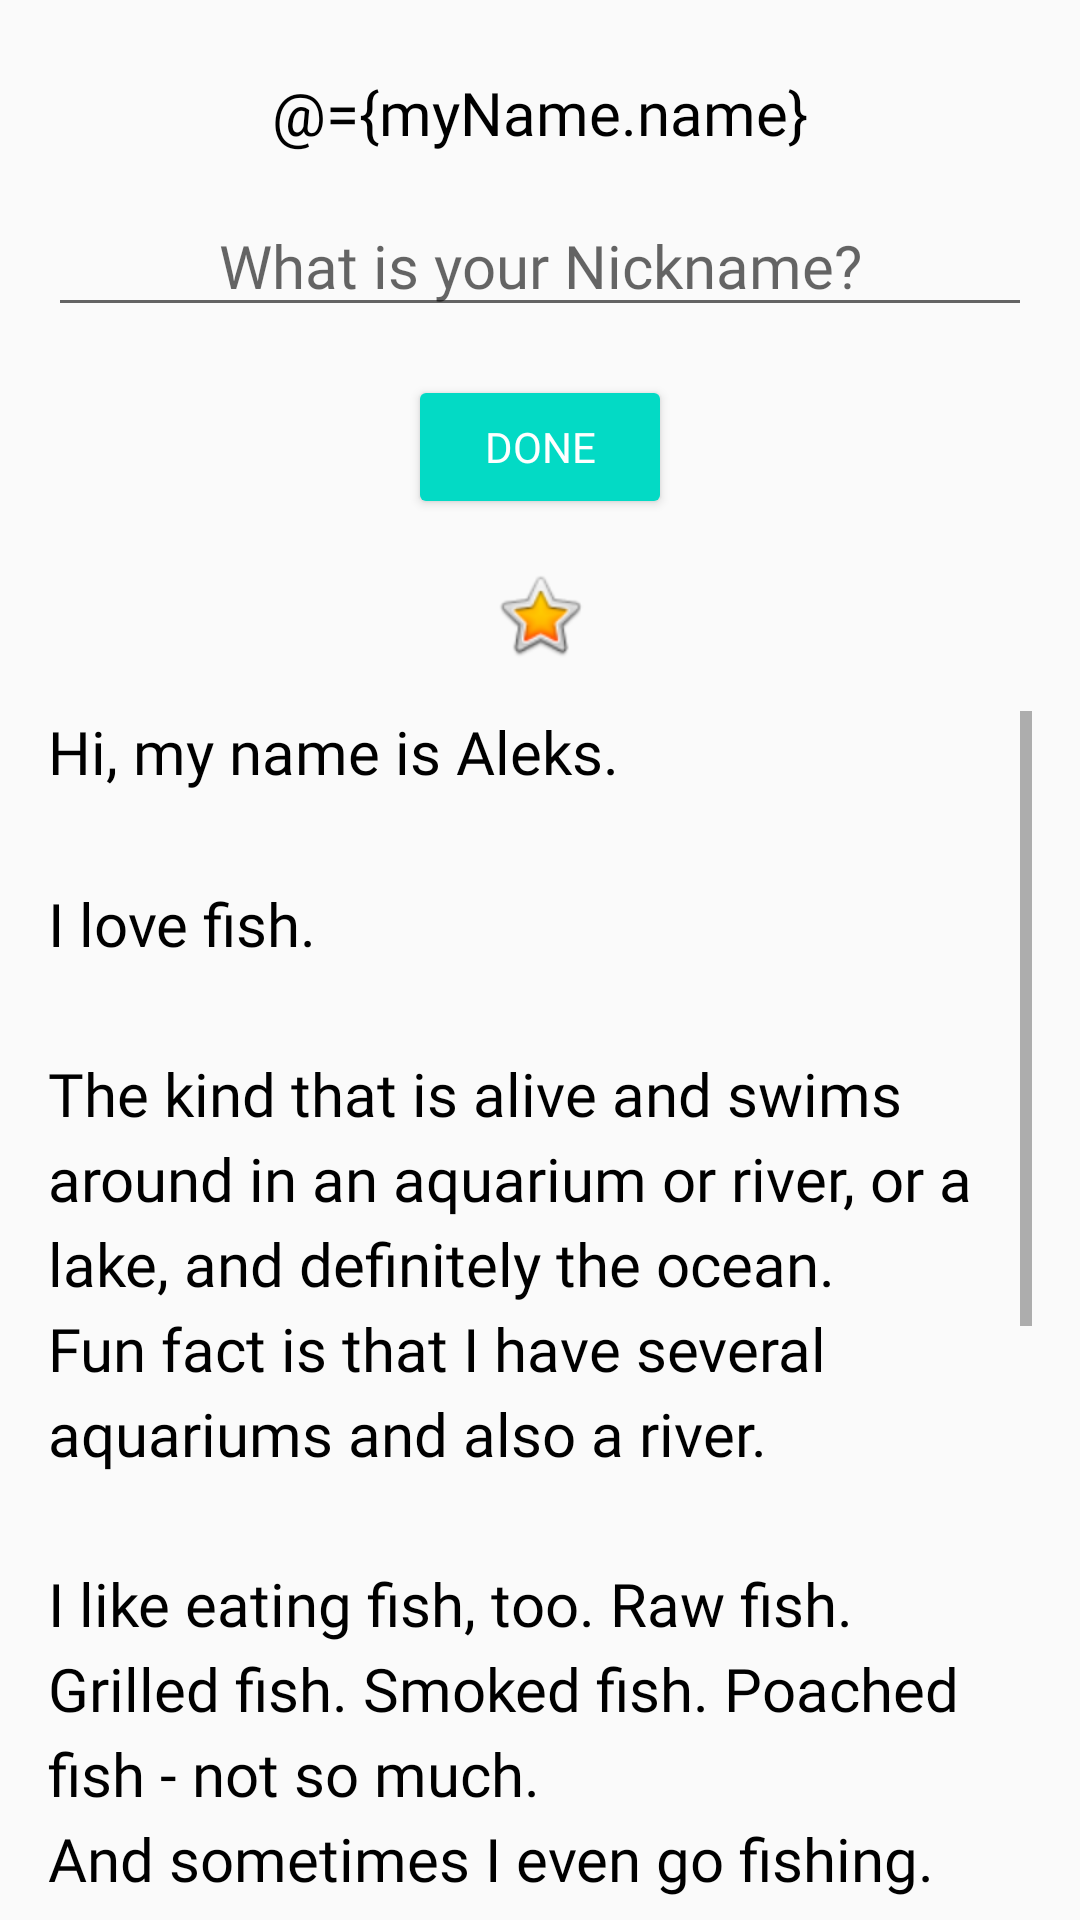

Screen size 1080px x 1920px. Icon name, then its box in pixels as Rect(x1, y1, x2, y2):
Yellow star: Rect(501, 577, 581, 655)
